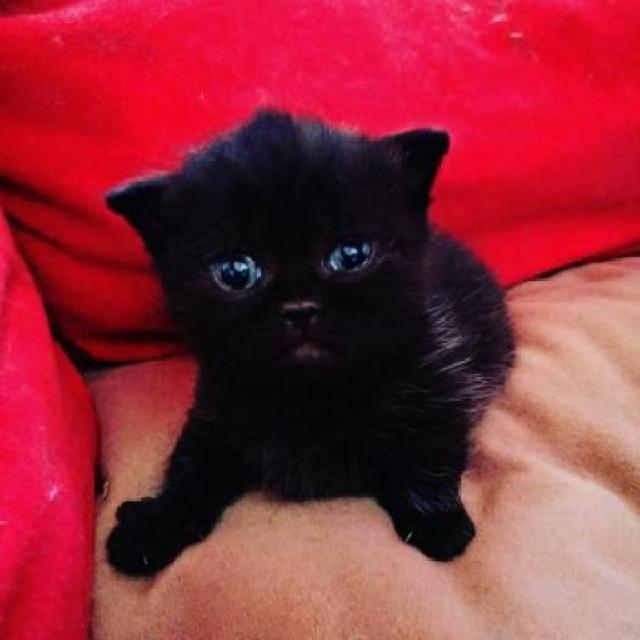cat: (76, 102, 541, 553)
